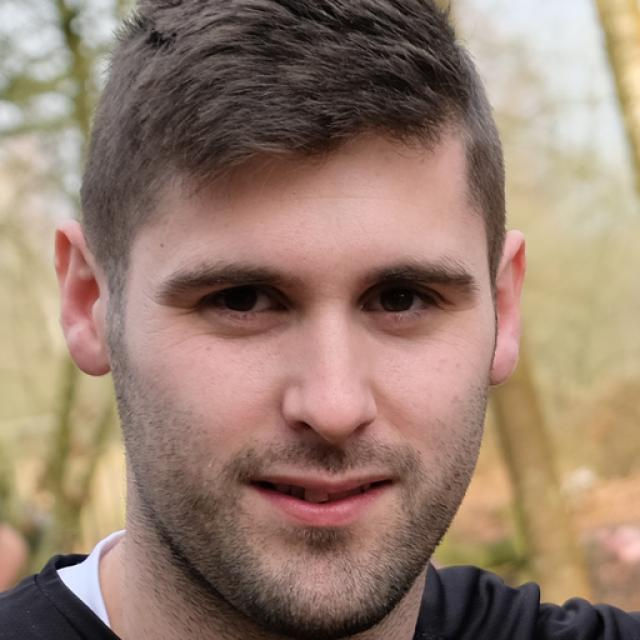Dark Circle: (198, 308, 294, 339), (360, 313, 443, 339)
